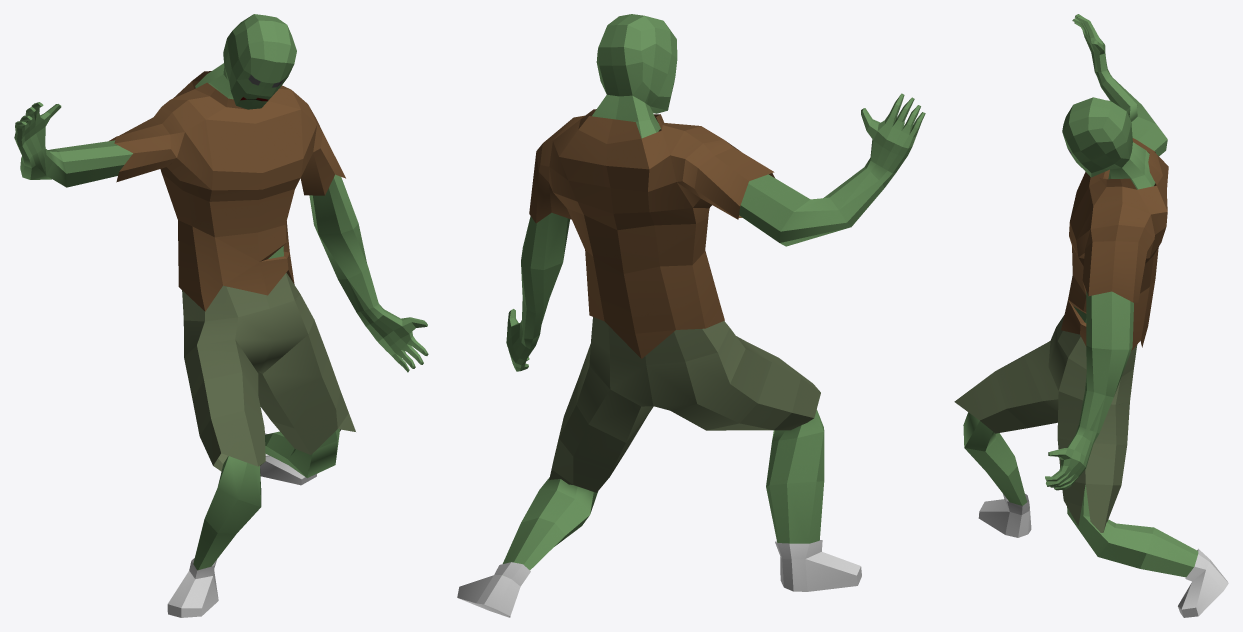
File: ZombieDead(24).obj
3 views of the same model, side by side, from view 1: azimuth 30°, elevation 25°; view 2: azimuth 150°, elevation 25°; view 3: azimuth 270°, elevation 25° (orthographic). The views are drawn at different scales.
Parts seen in each view (by area): view 1: Object001; view 2: Object001; view 3: Object001.
Part boxes in pixels (x1,y1,x2,y2): Object001: (14, 14, 428, 617); Object001: (457, 14, 925, 617); Object001: (954, 14, 1228, 617).
Bounding box in the file's own units: 40.68 × 51.93 × 27.03.
